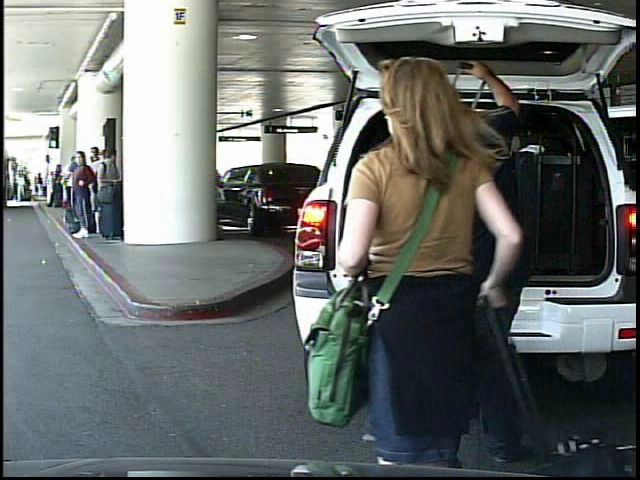person: (327, 42, 524, 476), (385, 67, 551, 457), (16, 174, 27, 205), (35, 172, 46, 199)
